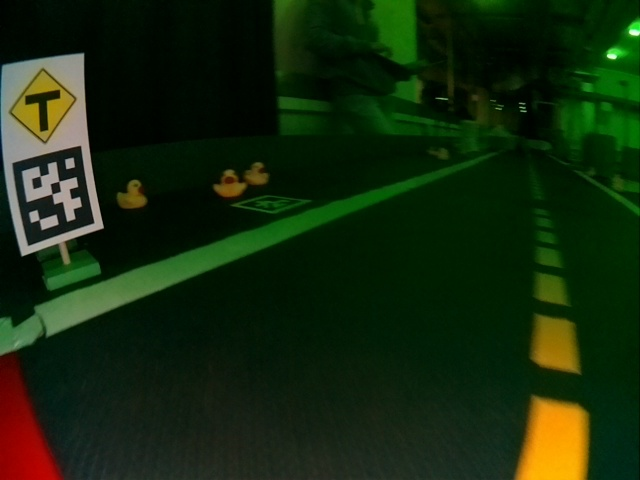Duckie: (117, 179, 147, 208), (215, 170, 245, 197), (248, 164, 270, 183), (438, 148, 448, 160)
Intersection sign: (7, 68, 80, 147)
QR code: (12, 146, 96, 247), (233, 194, 309, 213)
